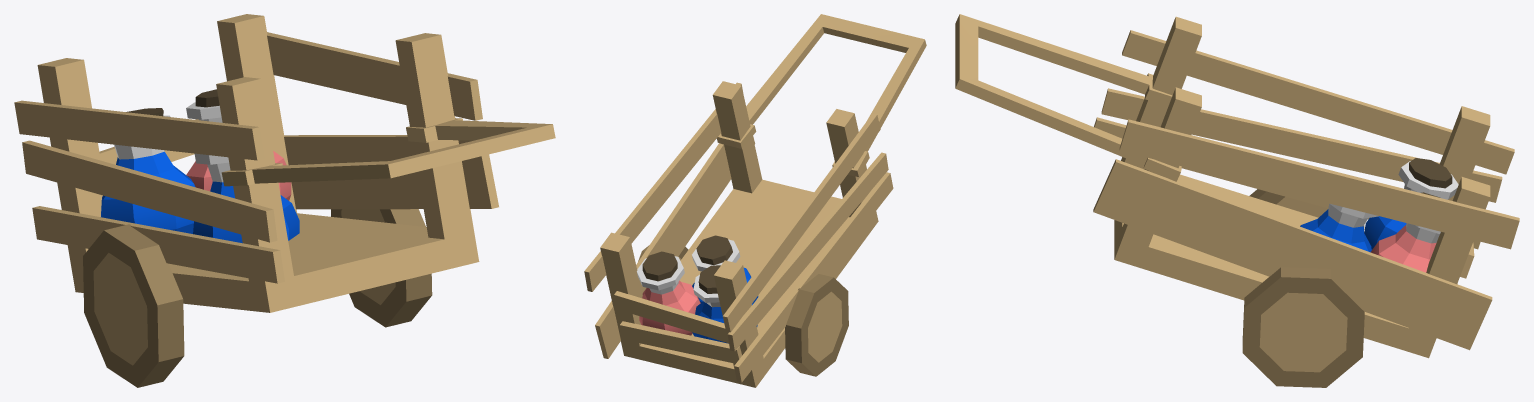
Rendered from wagon.fbx.
3 views of the same model, side by side, from view 1: azimuth 30°, elevation 25°; view 2: azimuth 150°, elevation 25°; view 3: azimuth 270°, elevation 25° (orthographic). The views are drawn at different scales.
Visible parts, largest first — view 1: polySurface44; view 2: polySurface44; view 3: polySurface44.
Boxes of the visible parts, x1,y1,x2,y2 form: polySurface44: (14,14,555,387); polySurface44: (584,14,926,387); polySurface44: (955,14,1519,387).
Size of the model in its own units: 372 by 462 by 822.
